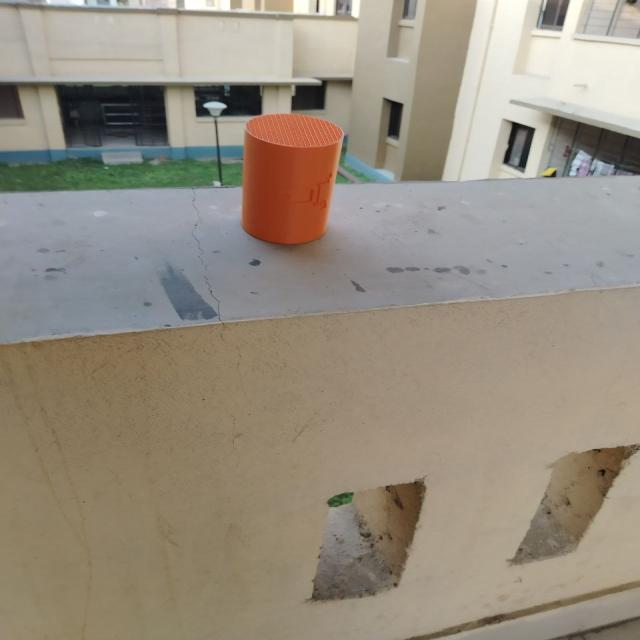Cylinder: (240, 112, 345, 244)
